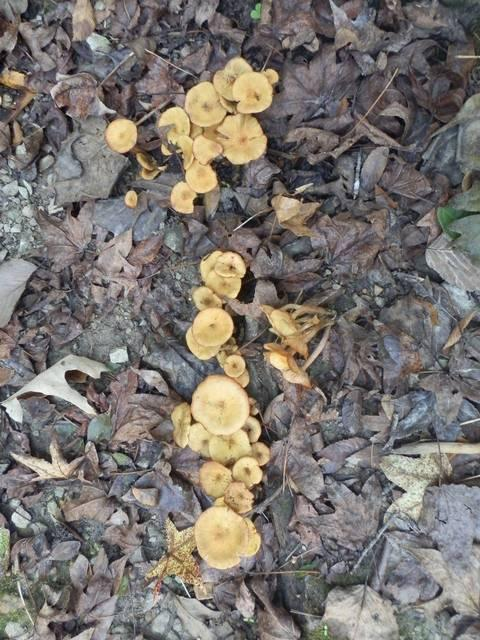Edible Mushroom: (170, 248, 271, 570), (155, 58, 280, 197)
